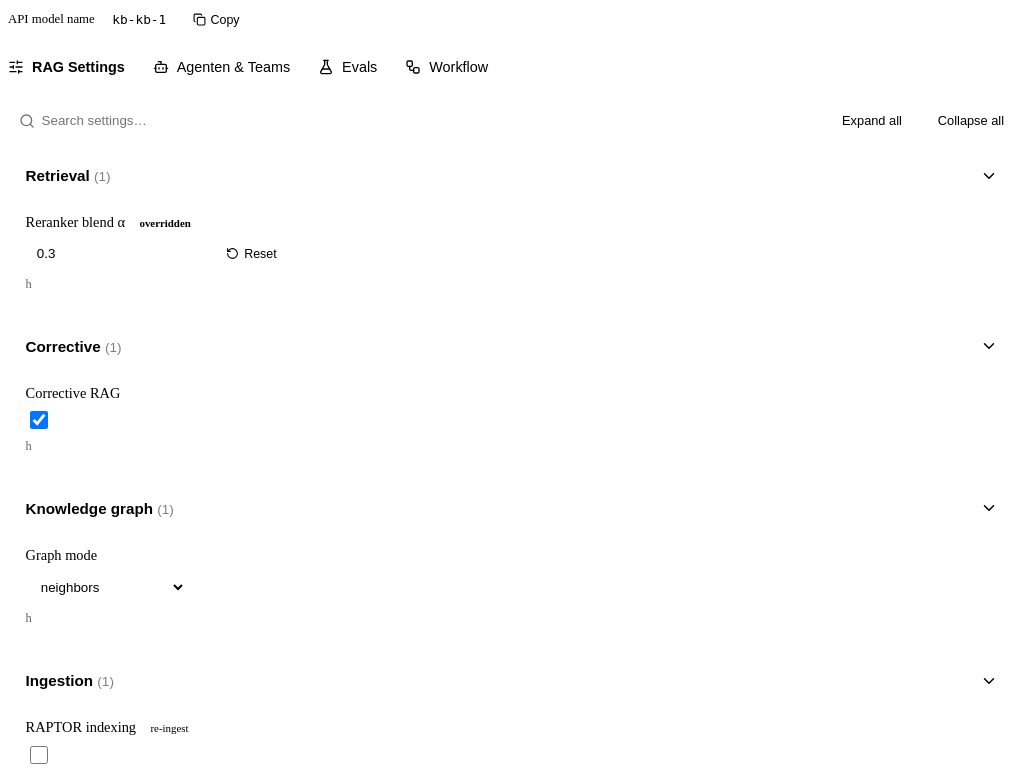
Test: KbSettingsPanel › shows the workflow tab and renders the canvas when selected
Click the button "Workflow": (447, 67) [405,49,488,84]
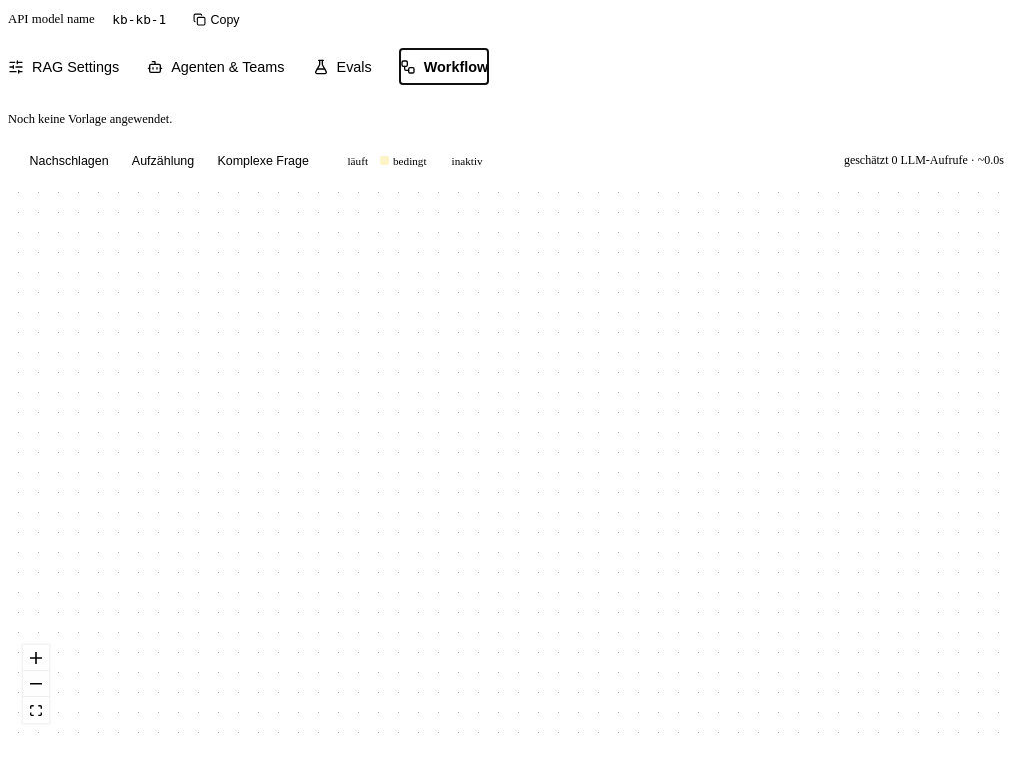
Now the button "Komplexe Frage" is shown, box [208,149,318,173]
